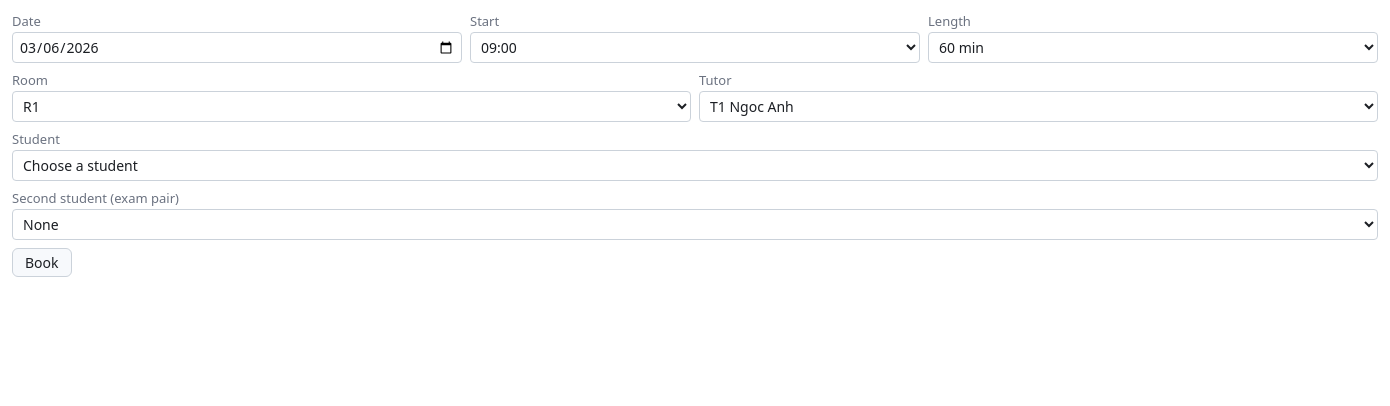
CreateSessionForm › lists every conflict of a 409 and keeps what was typed
The width and height of the screenshot is (1390, 406).
Type "2026-03-07" into the date field labelled "Date".
click(237, 48); type("2026-03-07")  # box [12,32,462,63]
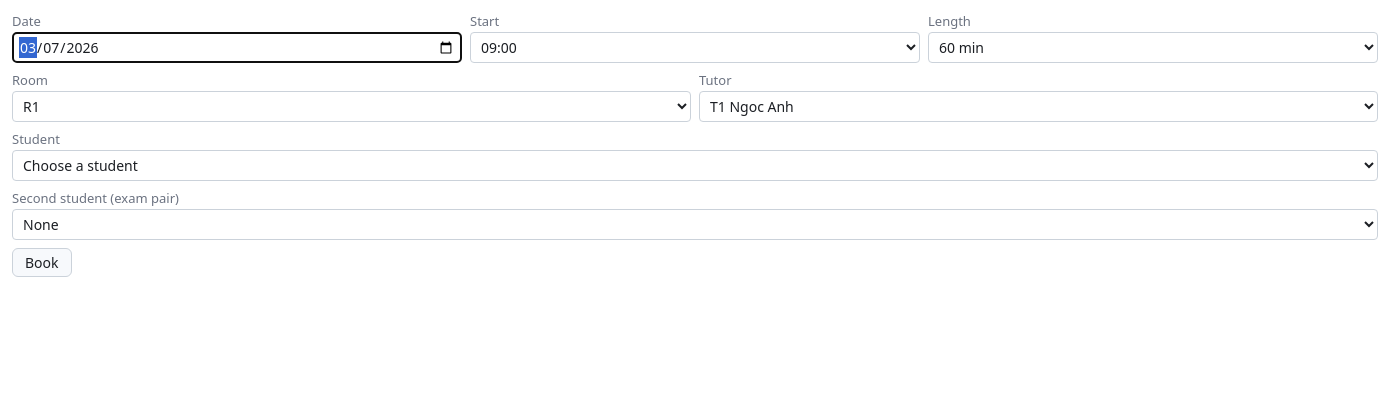
Select "13:00" in the dropdown labelled "Start" at (695, 48), box [470,32,920,63]
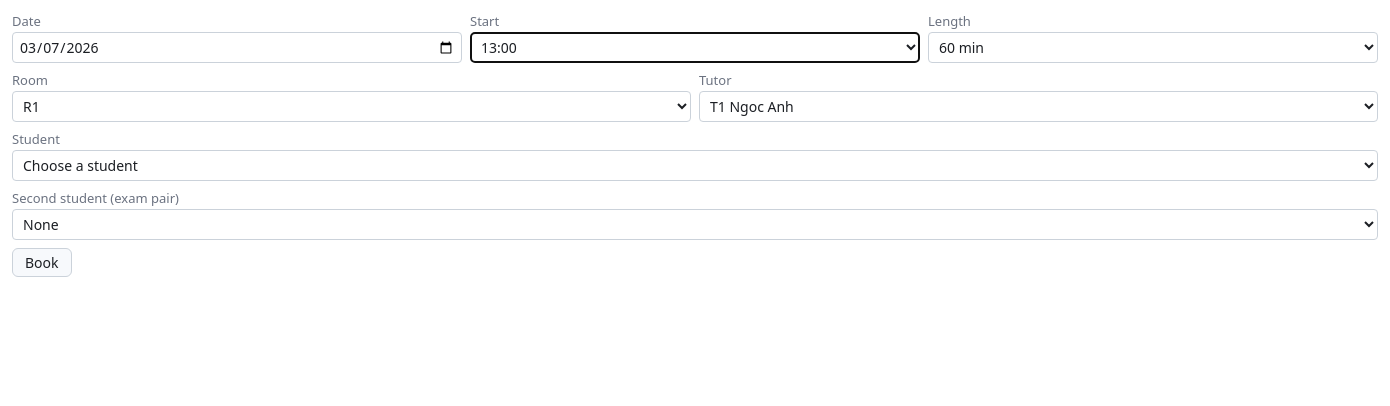
Select "R4" in the dropdown labelled "Room" at (352, 106), box [12,91,691,122]
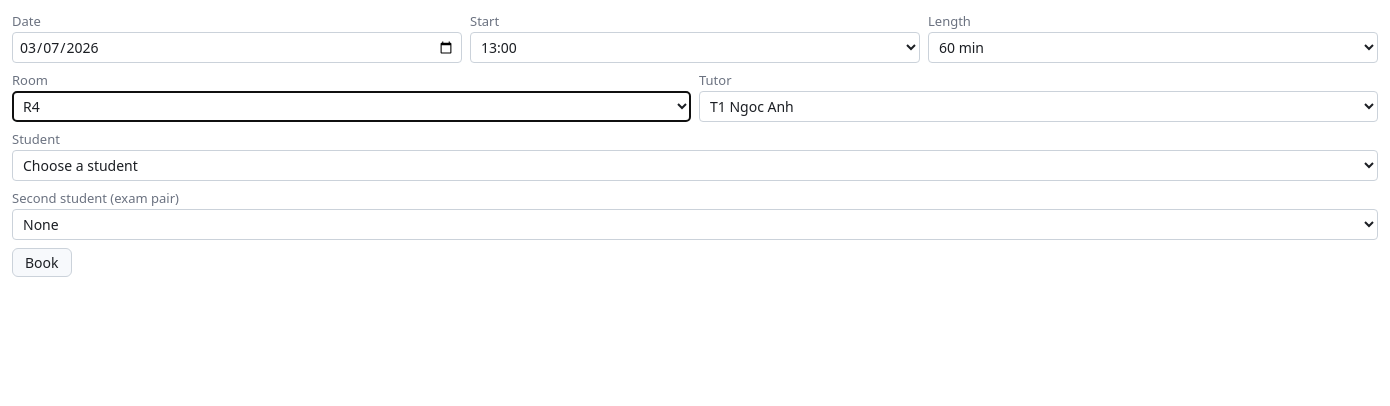
Select "T2 Pham Duc" in the dropdown labelled "Tutor" at (1038, 106), box [699,91,1378,122]
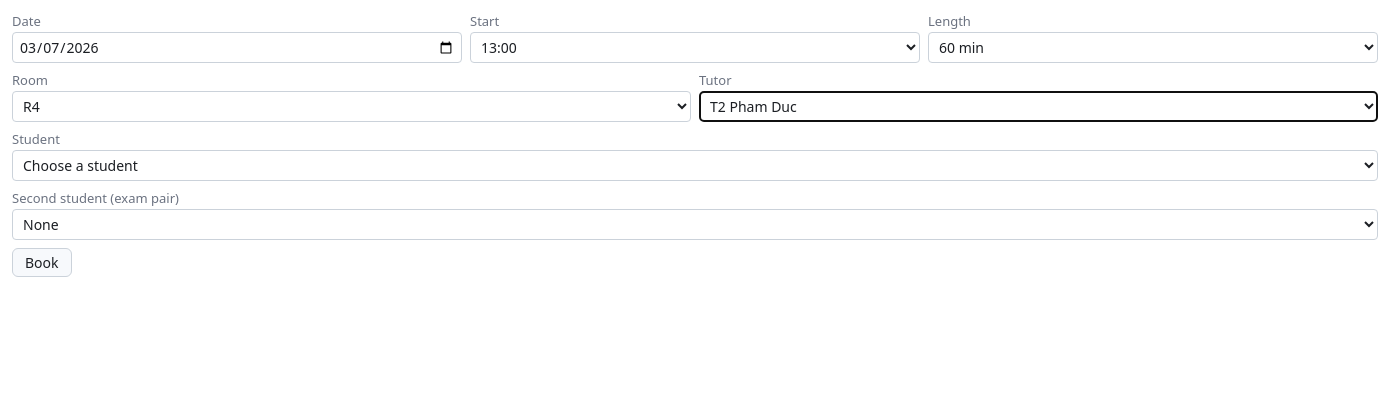
Select "Vu Ha My" in the dropdown labelled "Student" at (695, 166), box [12,150,1378,181]
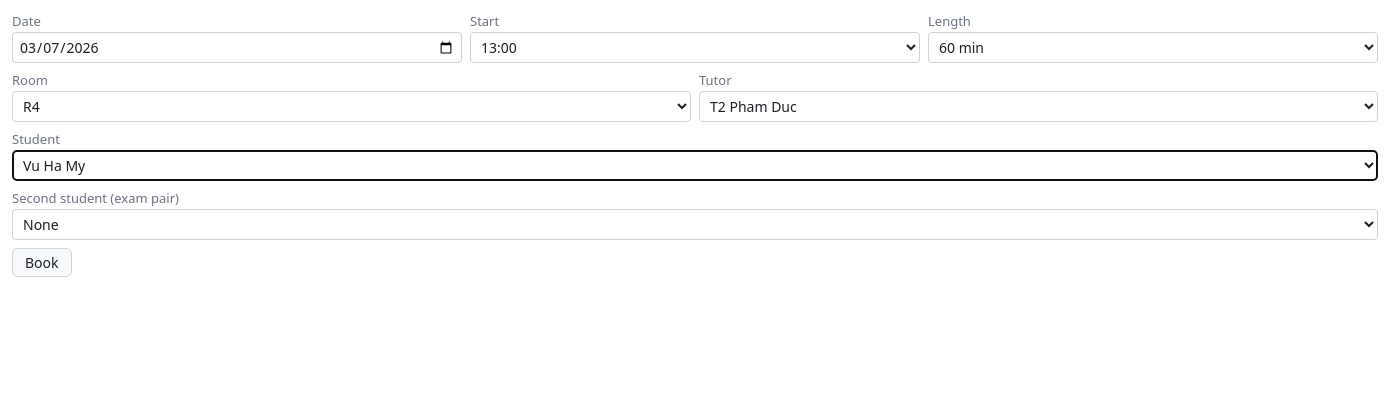
Click the button "Book".
click(42, 262)  # box [12,248,72,277]
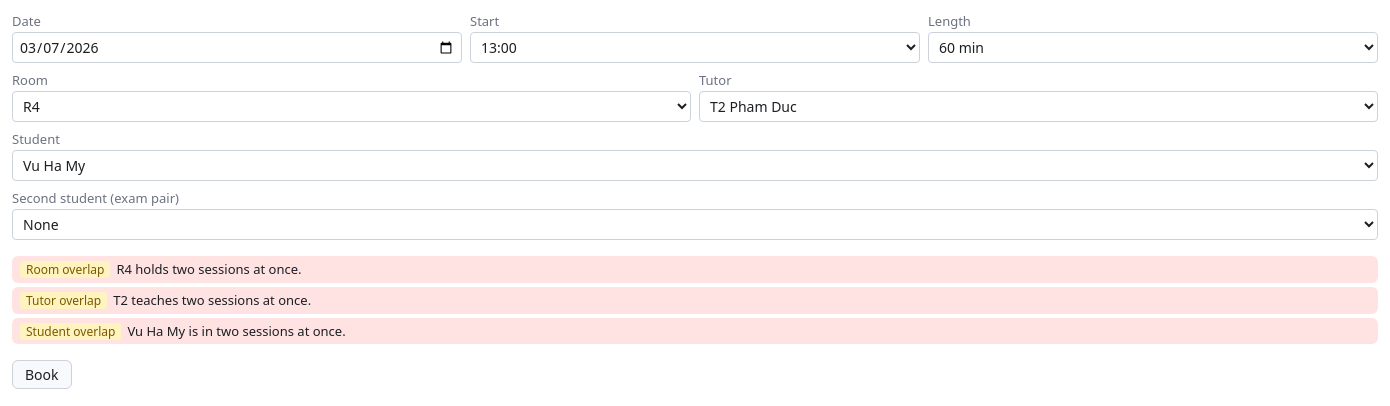
Check: the list items read "Room overlapR4 holds two sessions at once.", "Tutor overlapT2 teaches two sessions at once.", "Student overlapVu Ha My is in two sessions at once.", in this order, box [12,256,1378,283]; [12,287,1378,314]; [12,318,1378,344]
